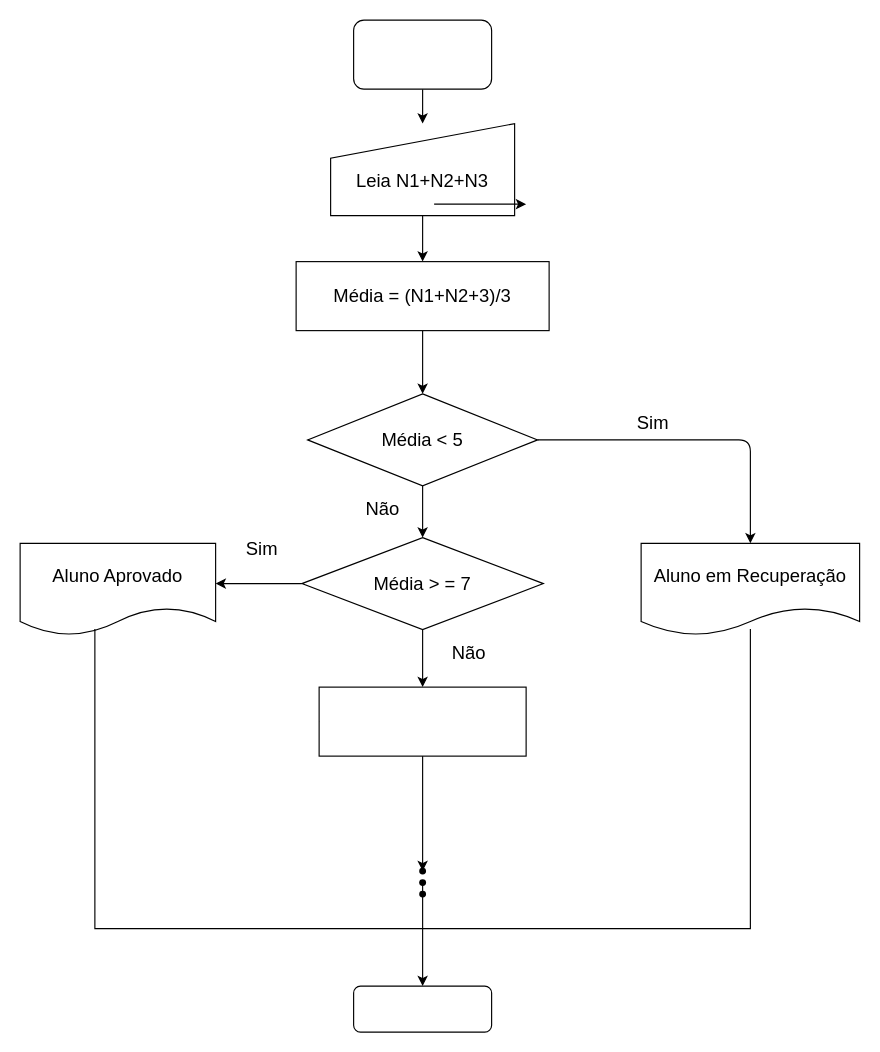
The diagram is 880 pixels wide and 1052 high, and some of its shapes have lost their labels. Here are the shapes that lost their labels. From the top down, the centre of each, then its label:
At pixel 422 54: "Início".
At pixel 422 721: "Aluno em Prova Final".
At pixel 422 1008: "Fim".
